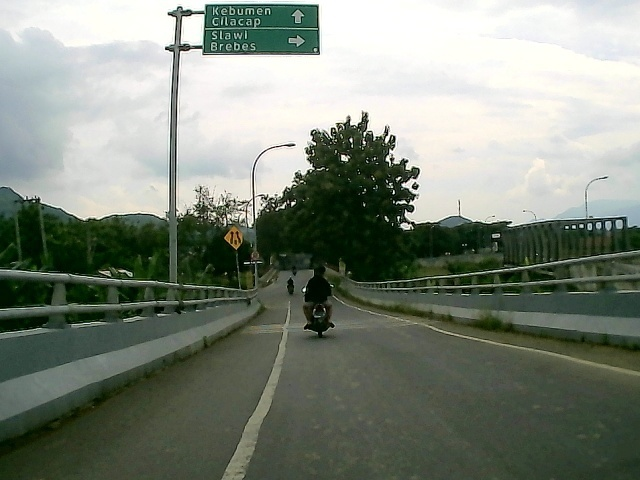Akhir bangunan pemisah satu arah: (219, 225, 247, 252)
